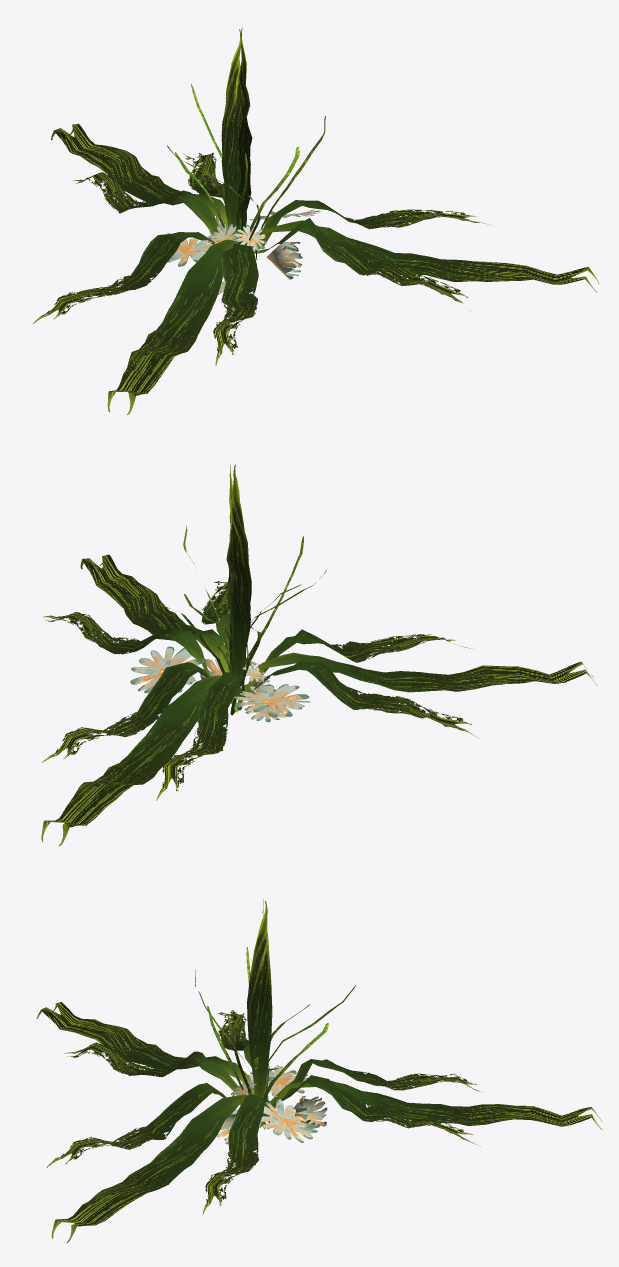
3 views of the same model, one above another, from view 1: azimuth 30°, elevation 25°; view 2: azimuth 150°, elevation 25°; view 3: azimuth 270°, elevation 25° (orthographic). The views are drawn at different scales.
Parts seen in each view (by area): view 1: aa03.002; view 2: aa03.002; view 3: aa03.002.
Boxes of the visible parts, <box> form: aa03.002: <box>33,28,599,414</box>; aa03.002: <box>41,465,597,846</box>; aa03.002: <box>36,899,602,1243</box>.
Size of the model in its own units: 1279 by 587 by 1305.
